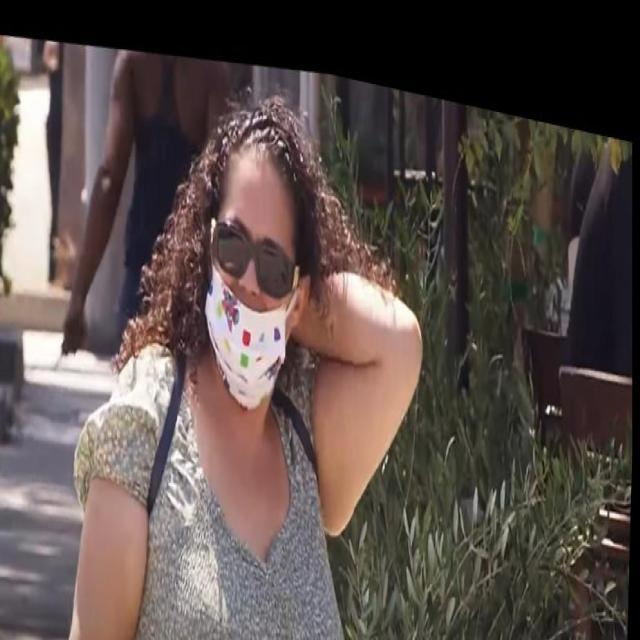hairnet: (205, 184, 291, 406)
